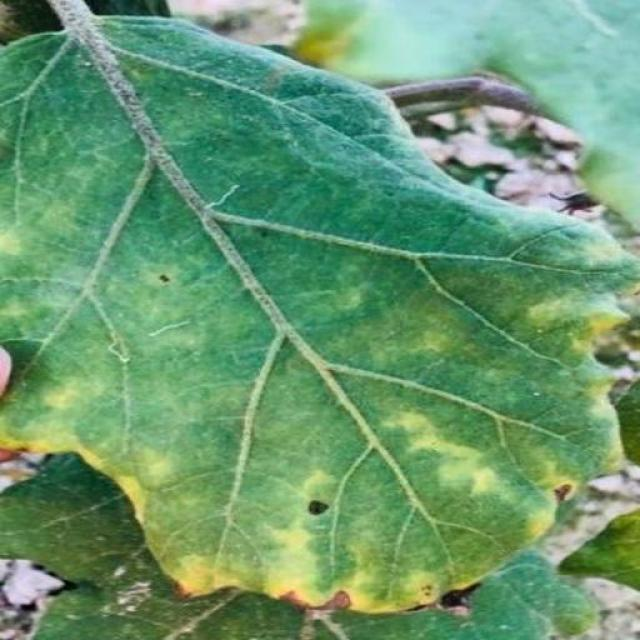leaf_spot: (366, 389, 534, 555), (2, 368, 170, 532), (324, 241, 492, 404), (507, 439, 636, 617), (218, 466, 360, 622), (563, 327, 640, 572), (520, 271, 620, 373), (95, 553, 203, 640), (551, 218, 640, 312), (165, 512, 242, 612), (341, 552, 438, 626), (294, 17, 346, 76), (1, 207, 30, 284), (126, 274, 190, 299)
